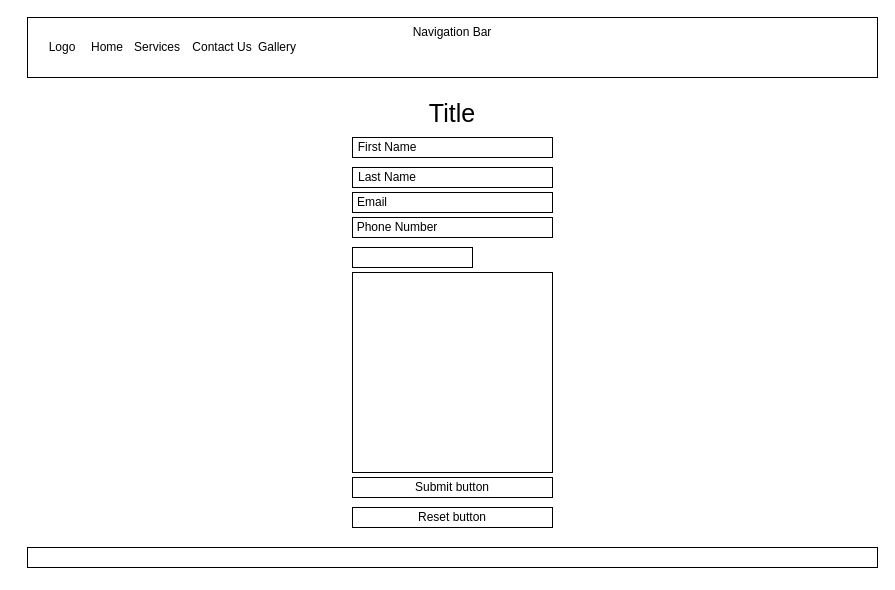
This 895x590 diagram has some shape labels left out. Each missing label, with the box of its shape:
Additional Information: (352, 272, 552, 472)
Drop Down: (352, 246, 472, 268)
Footer: (26, 546, 878, 568)
